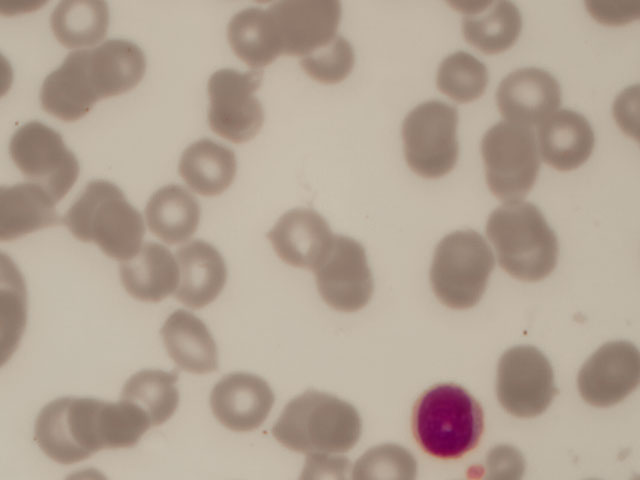RBC: (95, 40, 166, 98), (67, 46, 138, 104), (34, 68, 105, 126), (8, 117, 79, 175), (56, 173, 127, 231), (89, 205, 160, 263), (138, 182, 209, 240), (177, 136, 248, 194), (197, 73, 268, 131), (222, 11, 293, 69), (299, 32, 370, 90), (394, 130, 465, 188), (401, 92, 472, 150), (440, 44, 511, 102), (449, 1, 520, 59), (493, 71, 564, 129), (477, 116, 548, 174), (525, 111, 596, 169), (488, 193, 559, 251), (504, 224, 575, 282), (429, 232, 500, 290), (311, 255, 382, 313), (301, 231, 372, 289), (269, 210, 340, 268), (171, 242, 242, 300), (122, 247, 193, 305), (150, 315, 221, 373), (122, 362, 193, 420), (98, 382, 169, 440), (38, 401, 109, 459), (212, 374, 283, 432), (257, 384, 328, 442), (295, 388, 366, 446), (491, 352, 562, 410), (569, 346, 640, 404), (1, 183, 71, 241), (43, 1, 114, 58), (272, 1, 343, 58), (347, 443, 425, 480)
WBC: (411, 377, 491, 465)
